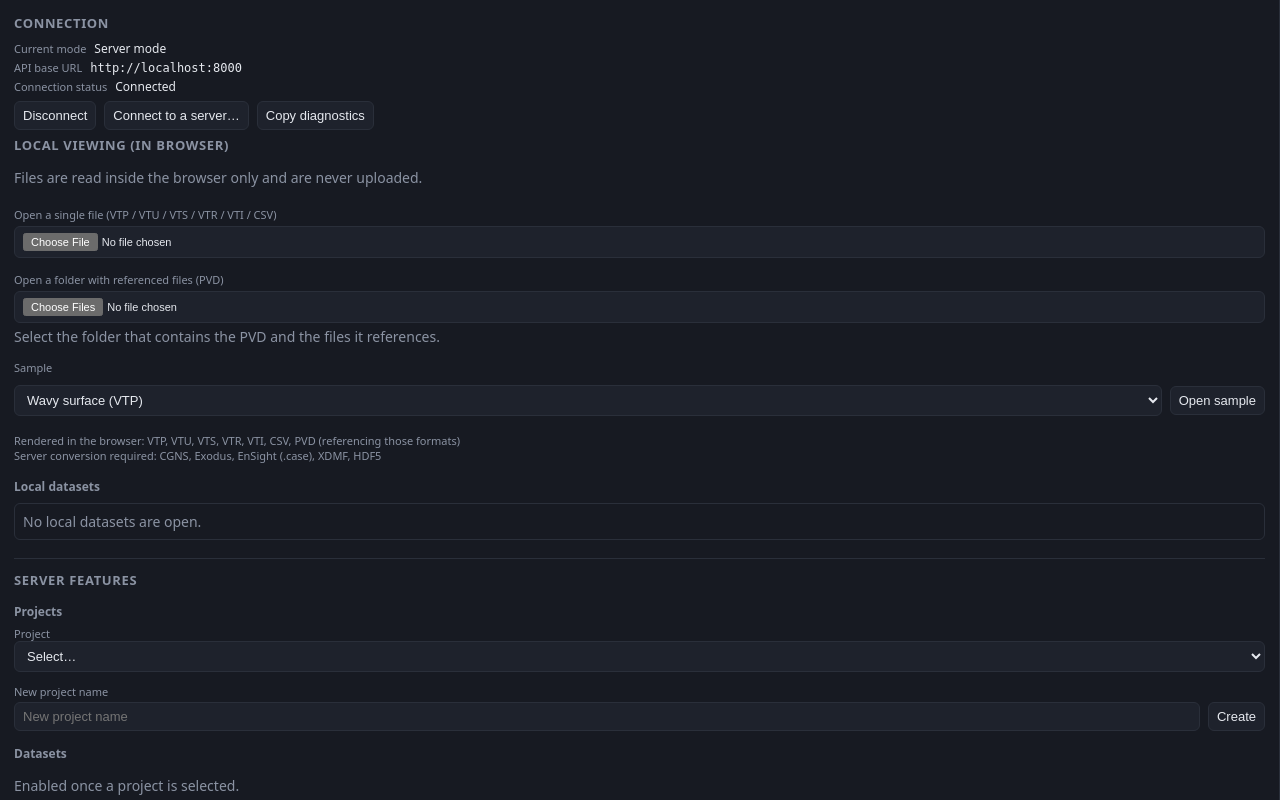
DatasetPanel project creation (F-02 / R-05) › blocks a second submit while the first is pending
Type "slow" into the field labelled "New project name" at (607, 716), box [14,702,1200,731]
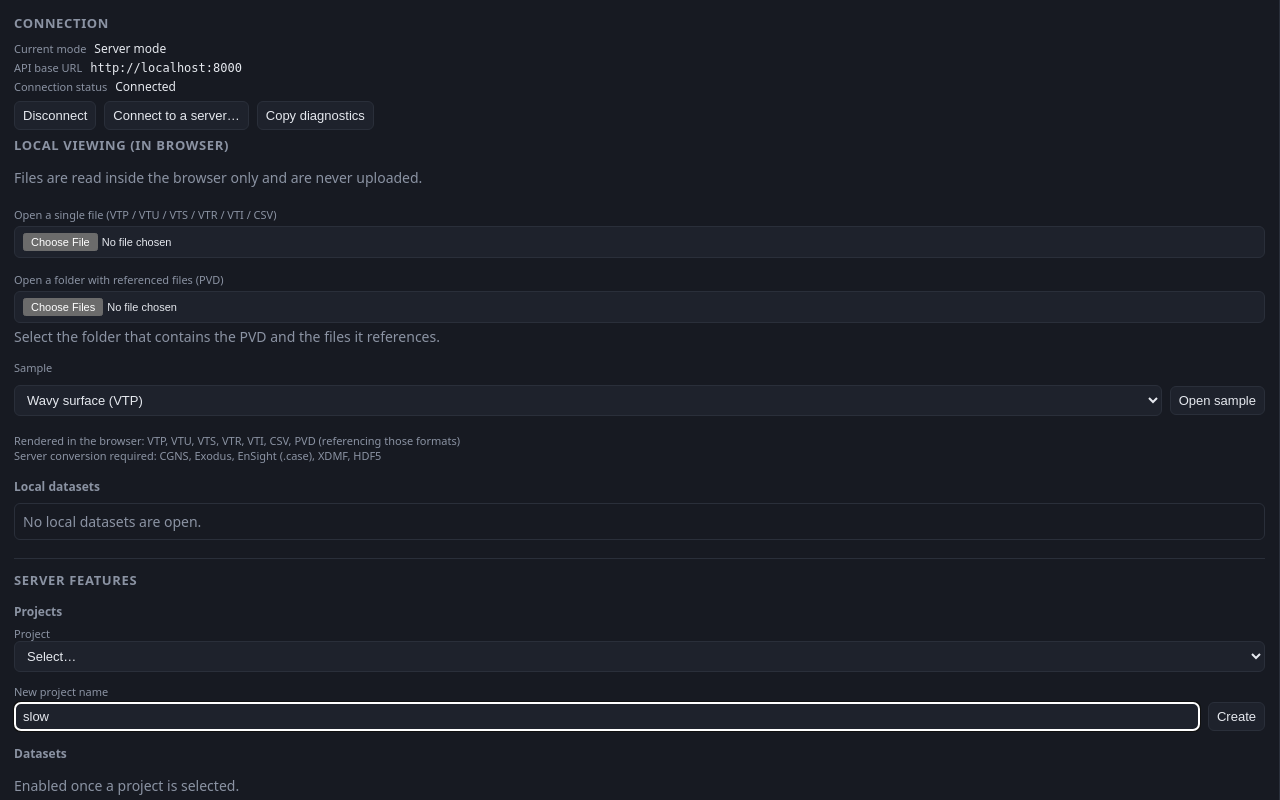
Click the button "Create" at (1236, 716), box [1208,702,1265,731]
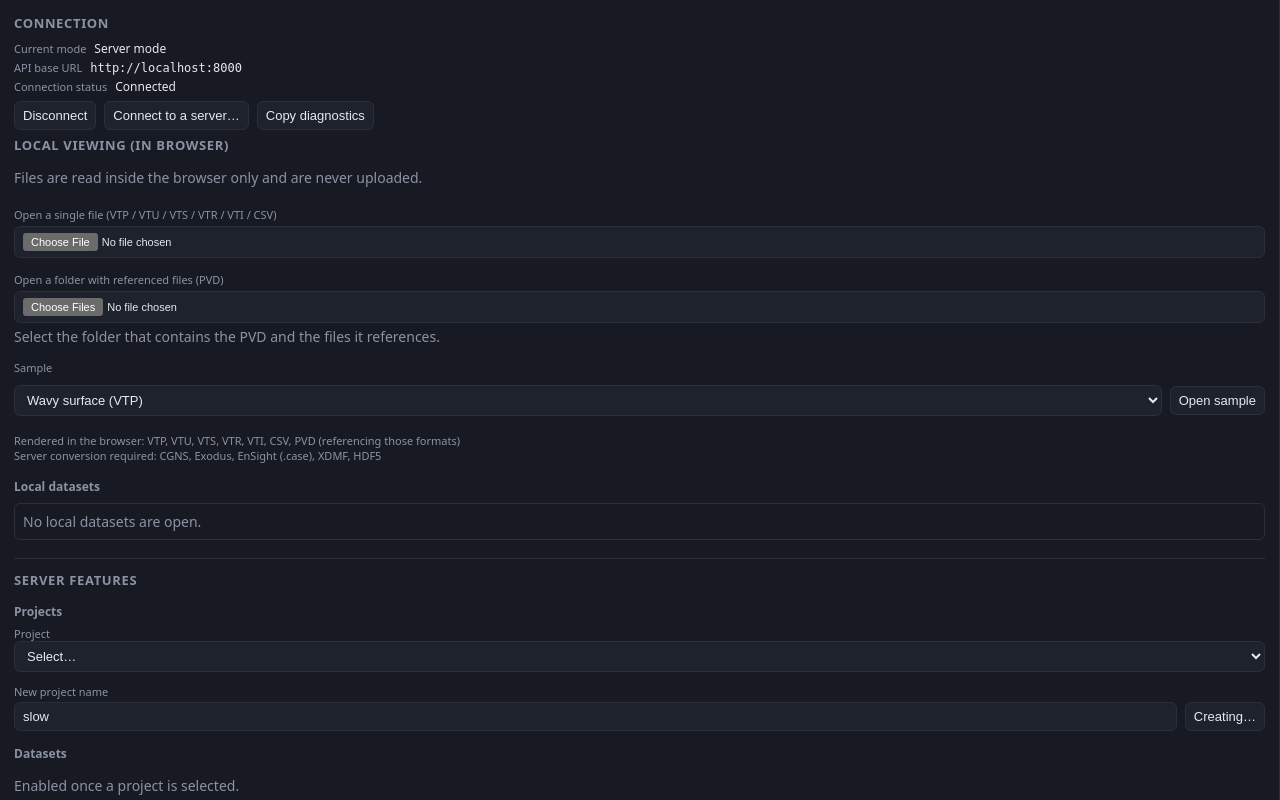
Expected: the button "Creating…" is disabled, [1185,702,1265,731]
Press Enter
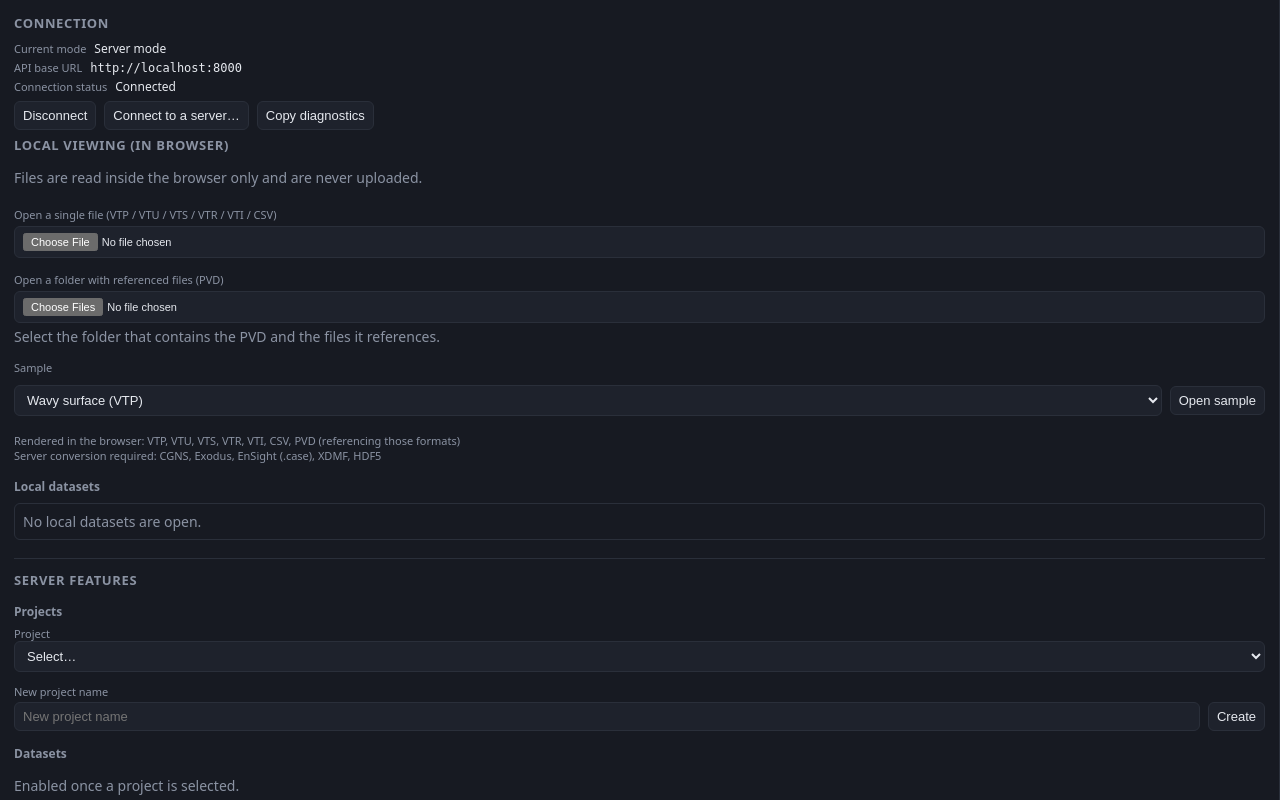
Expected: the button "Create" is enabled, [1208,702,1265,731]
